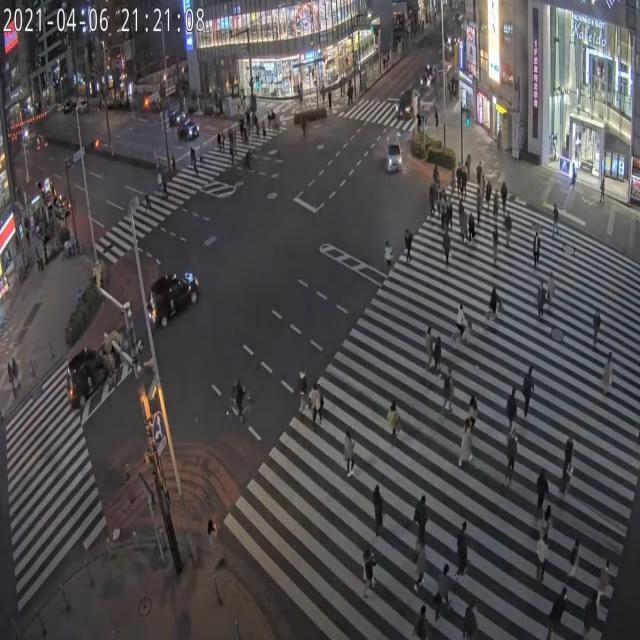bicycle: (214, 356, 267, 436), (450, 294, 478, 352), (484, 279, 506, 334)
humans: (402, 528, 432, 592), (558, 432, 584, 502), (199, 512, 224, 580), (453, 512, 477, 580), (408, 491, 438, 538), (522, 354, 542, 416), (458, 415, 476, 480), (404, 220, 424, 274), (310, 382, 333, 428), (534, 530, 553, 585), (340, 424, 357, 483), (382, 233, 397, 296), (466, 384, 484, 435), (294, 362, 310, 419), (438, 557, 454, 613), (362, 541, 376, 601), (423, 318, 438, 373), (504, 435, 522, 480), (387, 398, 402, 450), (372, 482, 386, 537), (598, 546, 614, 594), (585, 589, 600, 640), (550, 196, 564, 249), (442, 226, 456, 279), (570, 524, 583, 581), (541, 497, 556, 546), (442, 360, 455, 416), (534, 460, 548, 512), (464, 598, 484, 634), (557, 578, 568, 640), (414, 604, 433, 639), (533, 216, 544, 276), (604, 342, 614, 403), (457, 209, 472, 247), (497, 177, 515, 208), (506, 378, 518, 423), (591, 304, 602, 352), (504, 213, 515, 253), (474, 188, 486, 224), (426, 181, 438, 216), (436, 331, 447, 369), (460, 171, 472, 204), (492, 225, 500, 269), (545, 265, 556, 297), (538, 277, 546, 319), (448, 195, 458, 228), (468, 213, 478, 245), (454, 159, 464, 191), (494, 188, 502, 222), (487, 171, 495, 203), (479, 176, 488, 202), (440, 190, 448, 219), (477, 158, 483, 195)
